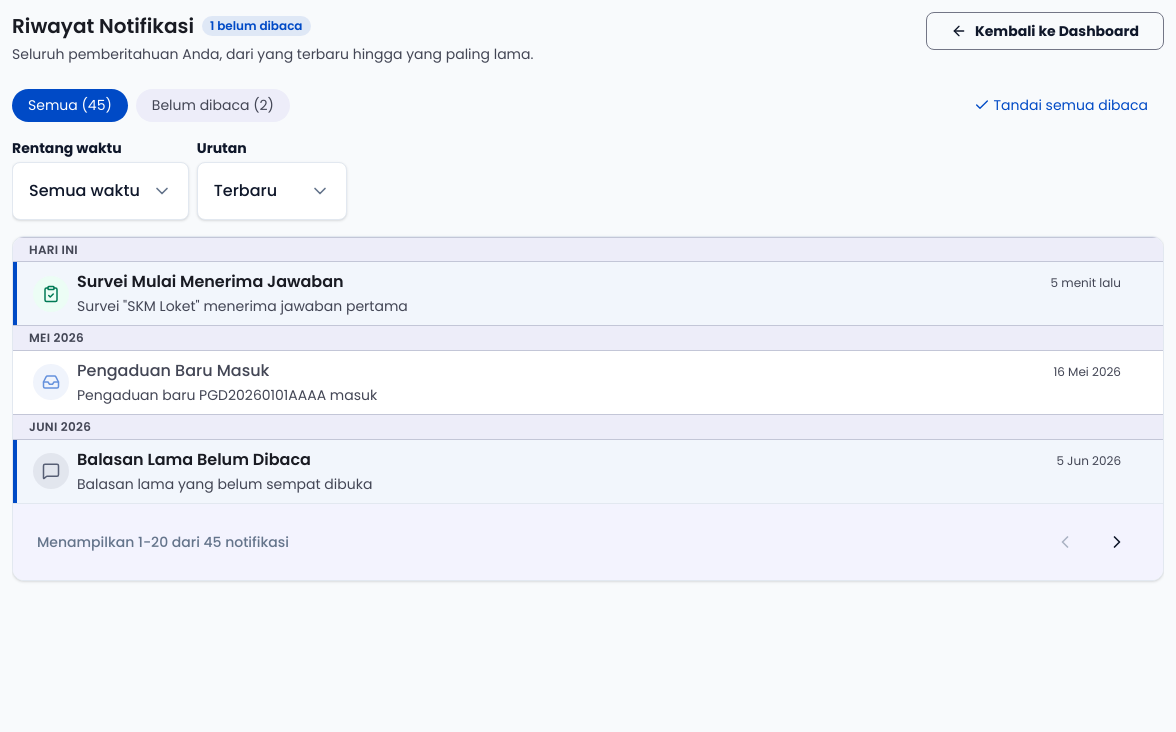
Test: NotificationHistoryScreen › saringan waktu & urutan › angka pada kedua pil ikut menyaring saat rentang waktu aktif
The width and height of the screenshot is (1176, 732).
Check: the text "Survei Mulai Menerima Jawaban" is shown, box top-left (77, 270), bottom-right (344, 294)
Check: the button "Semua (45)" is shown, box top-left (12, 89), bottom-right (128, 122)
What coordinates should you click on to do the following:
click the button "Semua waktu"
I would click on:
 (100, 191)
Its box is top-left (12, 162), bottom-right (189, 220).
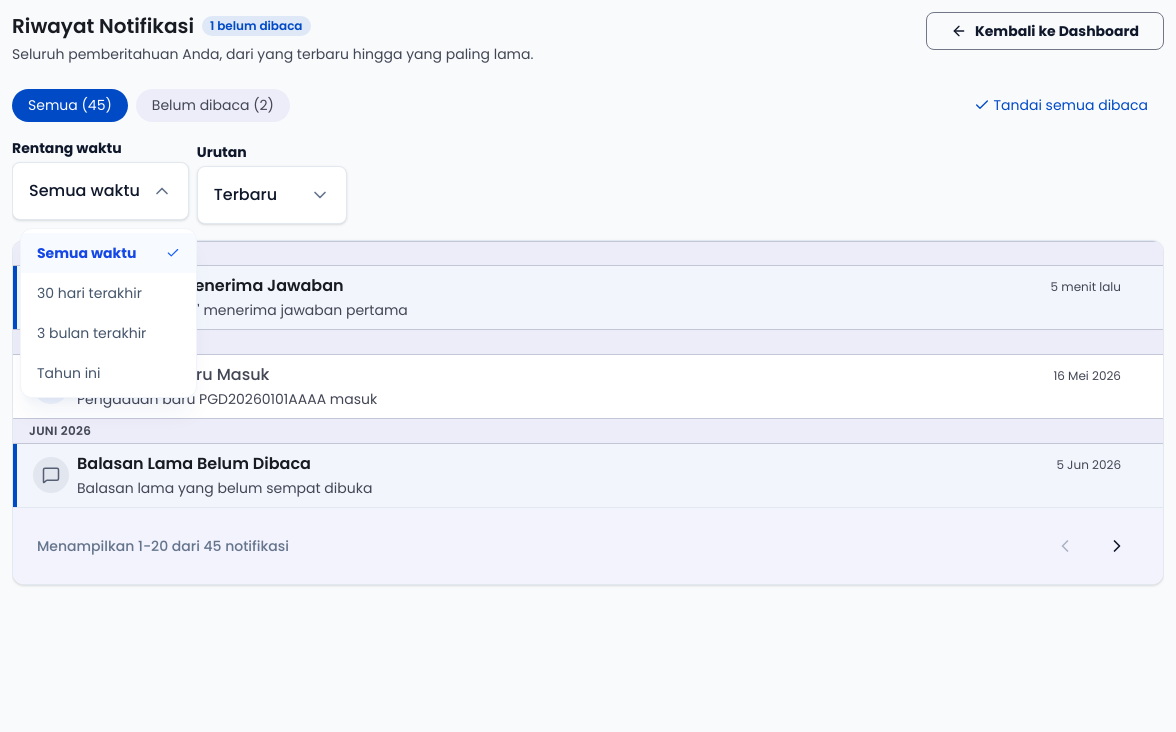
What coordinates should you click on to do the following:
click the button "30 hari terakhir"
I would click on:
 (108, 293)
Its box is top-left (21, 273), bottom-right (196, 313).
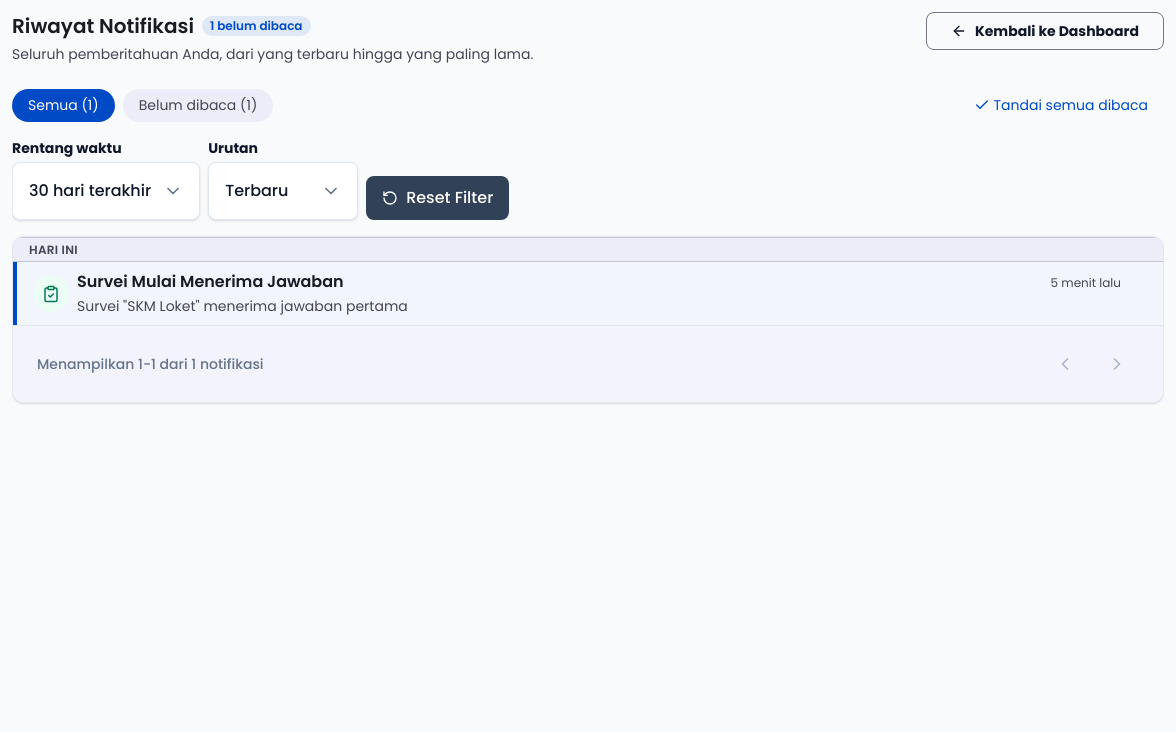
Check: the button "Semua (1)" is shown, box top-left (12, 89), bottom-right (115, 122)
Check: the button "Belum dibaca (1)" is shown, box top-left (123, 89), bottom-right (273, 122)
